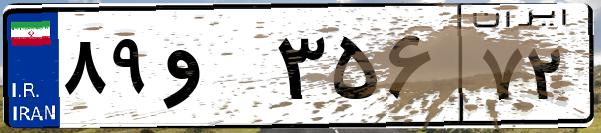2: (525, 38, 570, 115)
3: (270, 28, 330, 110)
5: (330, 28, 385, 110)
6: (385, 28, 445, 110)
7: (475, 38, 525, 113)
8: (57, 26, 110, 100)
9: (110, 28, 158, 98)
و: (158, 20, 270, 120)
